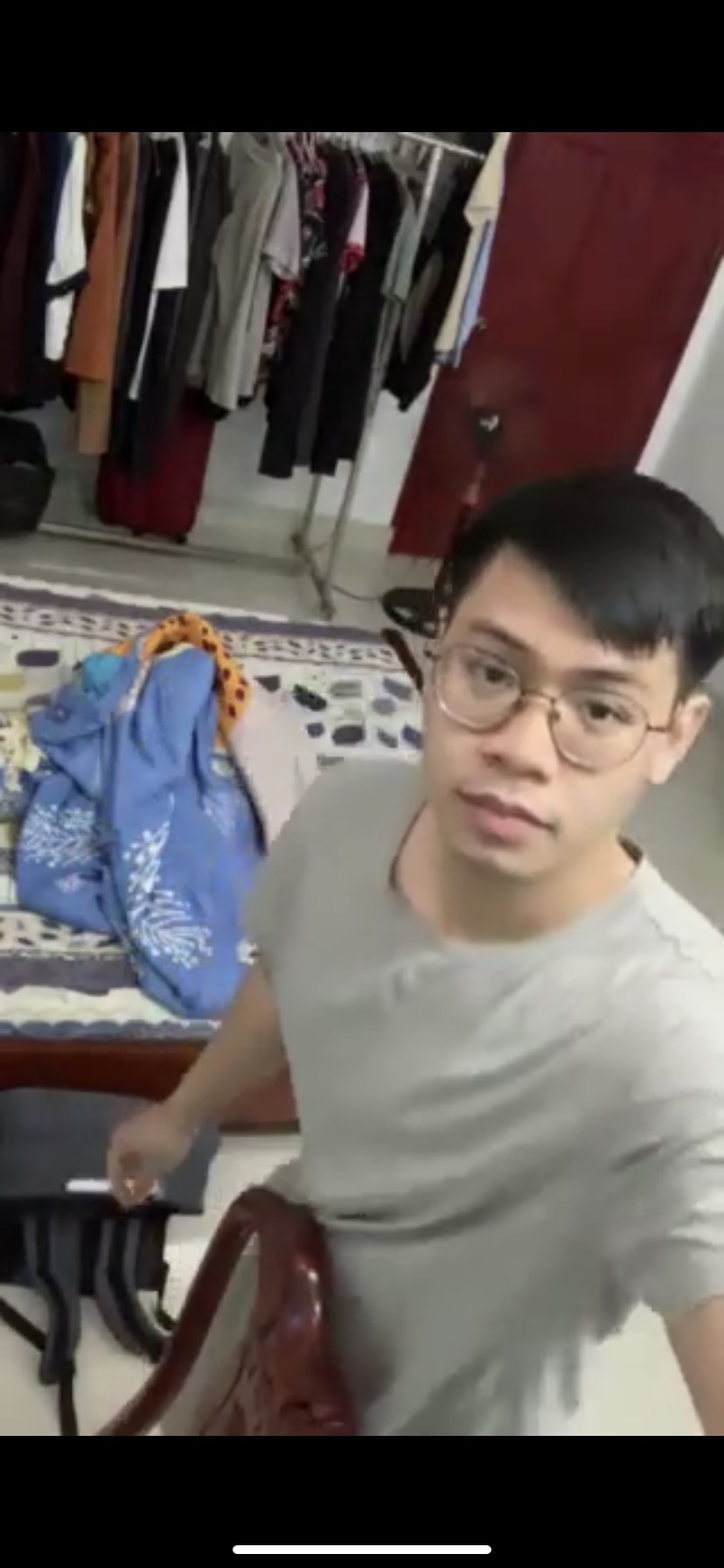cigarette: (67, 1154, 176, 1208)
person: (207, 397, 724, 1423)
